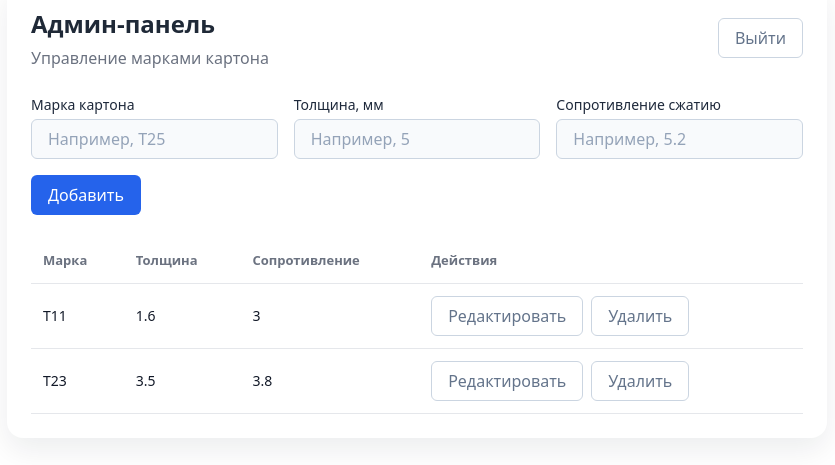
Scenario: AdminPanel › при редактировании подставляет name, thickness и crushResistance
The width and height of the screenshot is (835, 465).
Click the button "Редактировать" in the row of "Т11". click: (507, 316)
box: [431,296,583,336]
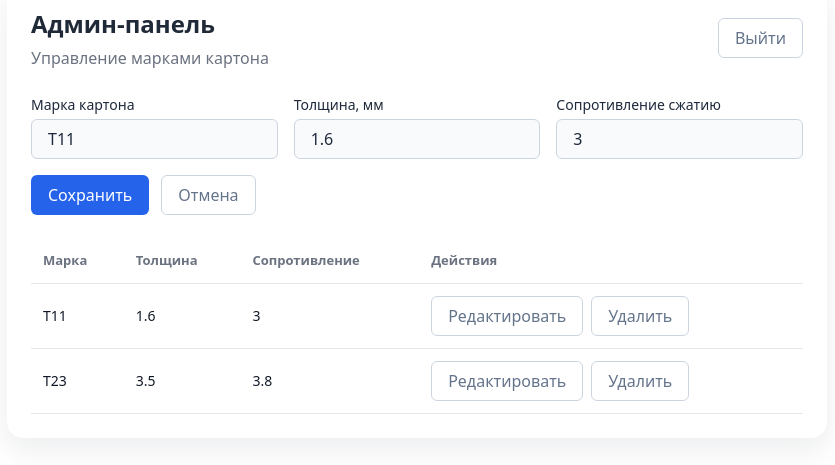
expect the field with test id "input-field" holds "Т11": met, box [31,119,278,159]
expect the number field with test id "input-field" holds "1.6": met, box [294,119,540,159]
expect the number field with test id "input-field" holds "3": met, box [556,119,803,159]
